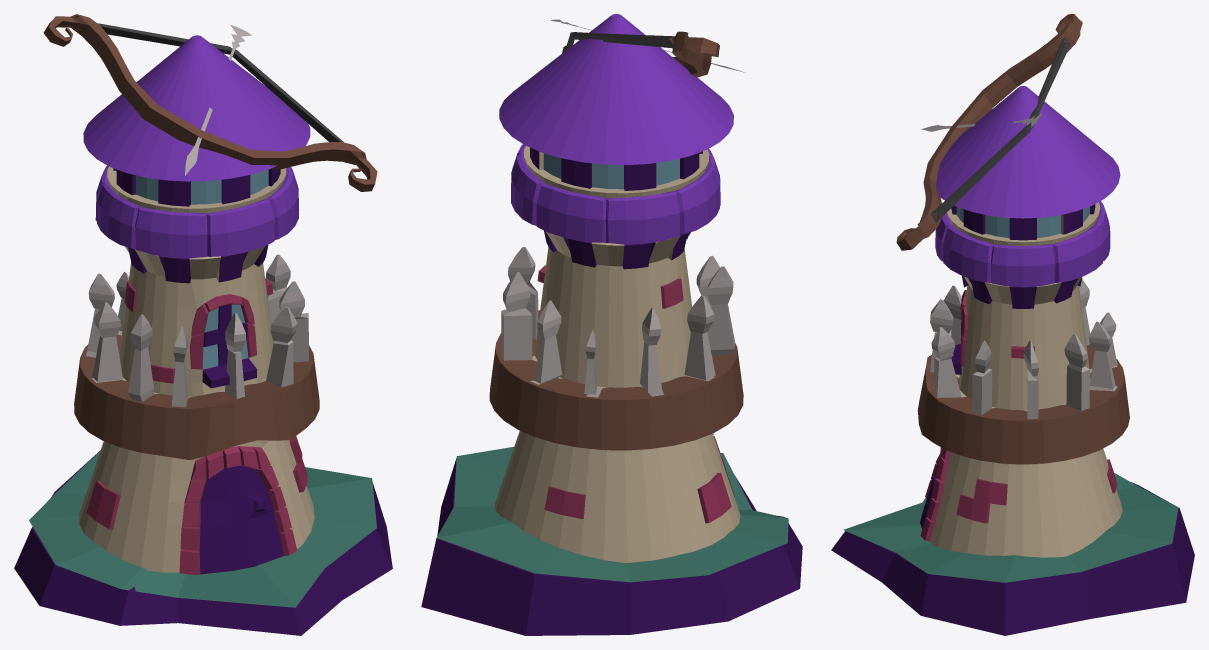
The model's file is kule_okcu_.fbx.
The picture shows the model from 3 angles, left to right: view 1: azimuth 30°, elevation 25°; view 2: azimuth 150°, elevation 25°; view 3: azimuth 270°, elevation 25°; orthographic projection. The views are drawn at different scales.
Visible parts, largest first — view 1: Cylinder.011, cımen.010, Circle.010, Plane, Plane.001; view 2: Cylinder.011, Circle.010, cımen.010, Plane; view 3: Cylinder.011, Circle.010, cımen.010, Plane.
Boxes of the visible parts, x1,y1,x2,y2 form: Cylinder.011: (74,35,319,574); cımen.010: (29,451,376,607); Circle.010: (14,450,392,635); Plane: (43,14,377,191); Plane.001: (185,25,251,175); Cylinder.011: (489,14,743,562); Circle.010: (421,458,802,635); cımen.010: (436,446,788,582); Plane: (562,31,719,77); Cylinder.011: (917,86,1129,557); Circle.010: (831,482,1194,635); cımen.010: (843,473,1178,582); Plane: (896,14,1082,250).
Size of the model in its own units: 488 by 747 by 496.
